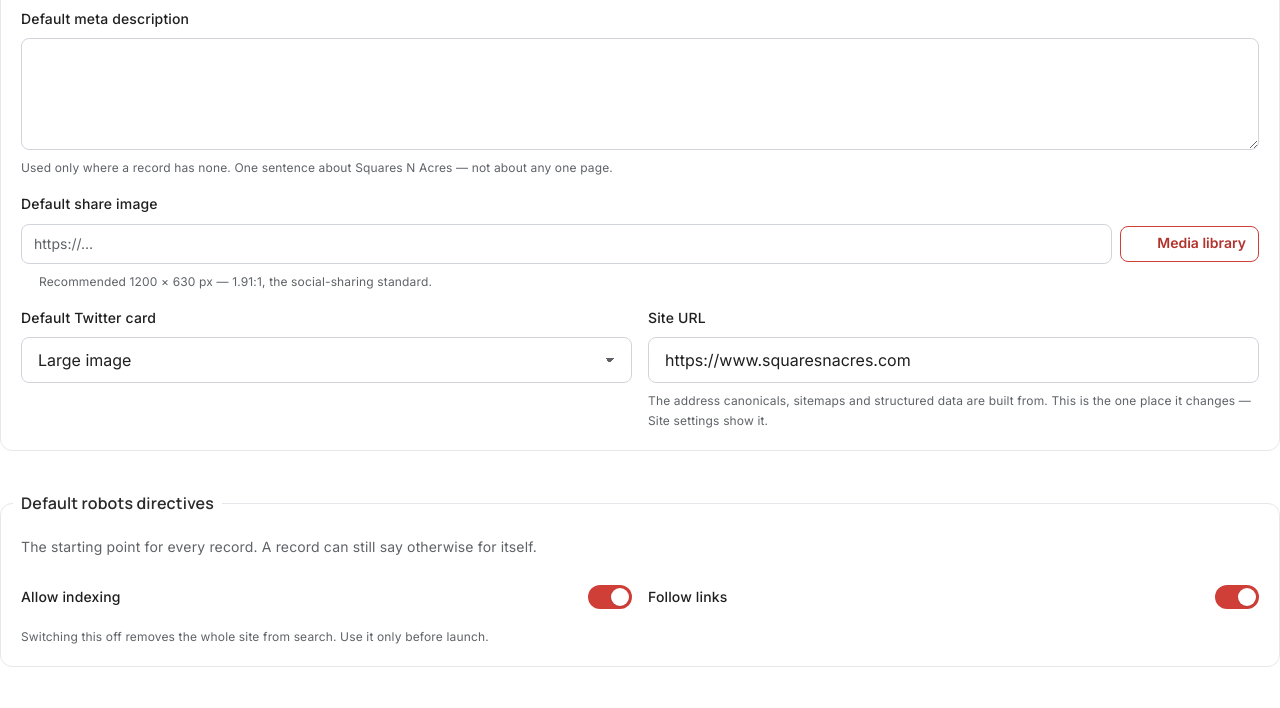
the site URL › is kept without a trailing slash, since canonicals append a path to it
(page scrolled)
Replace the text in the field labelled "Site URL" with "https://www.squaresnacres.com/ " at (954, 360), box [648,337,1259,383]
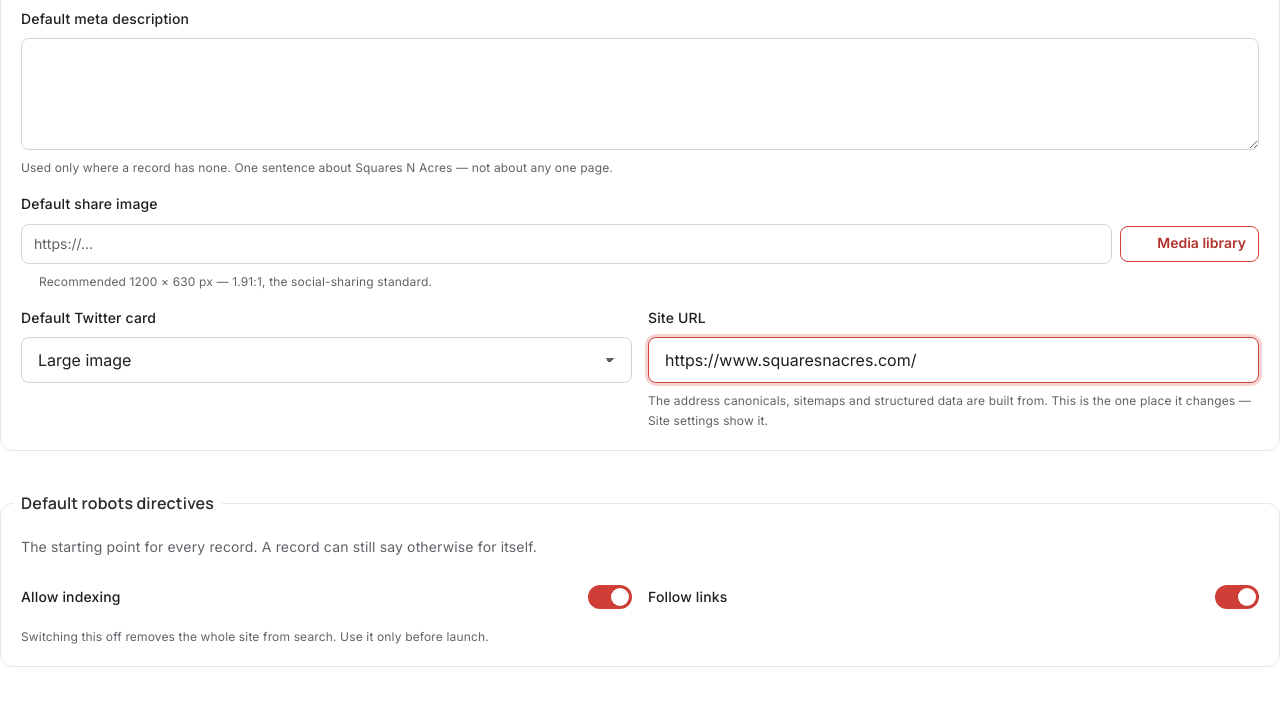
Press Tab
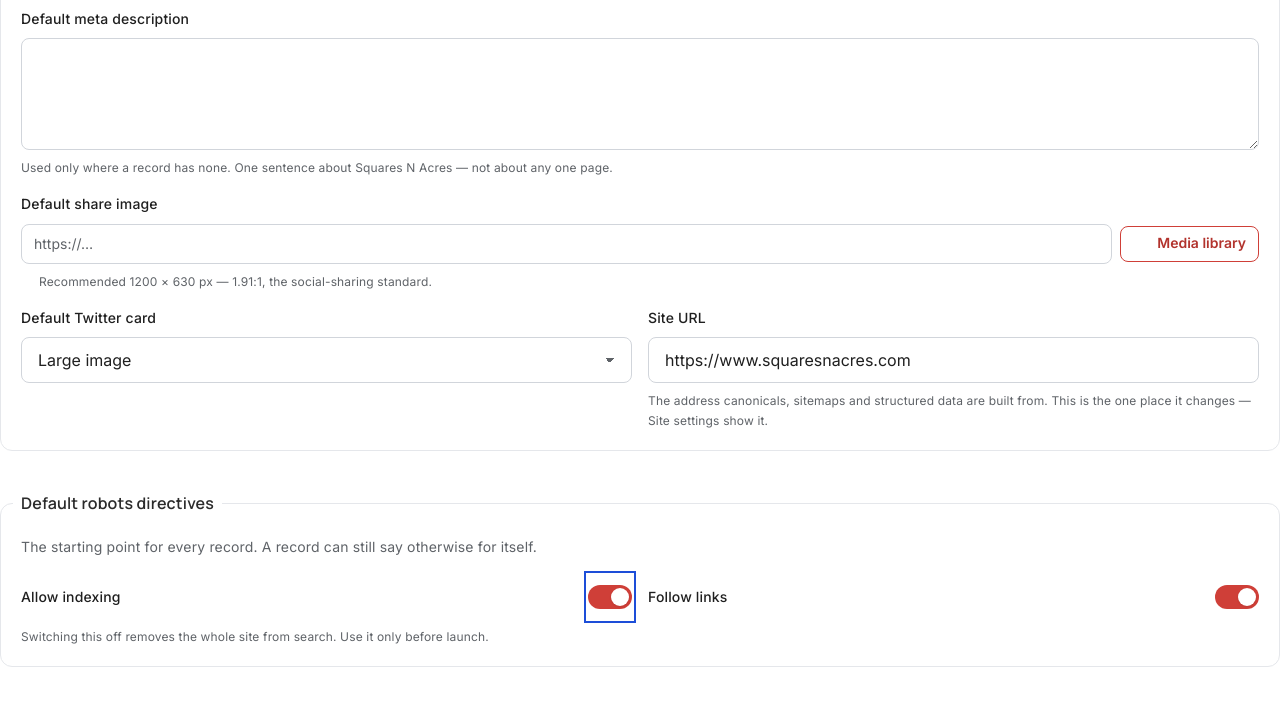
Expected: the text "This is the one place it changes" is shown, [648,393,1251,428]
Now the field labelled "Site URL" holds "https://www.squaresnacres.com", box [648,337,1259,383]
